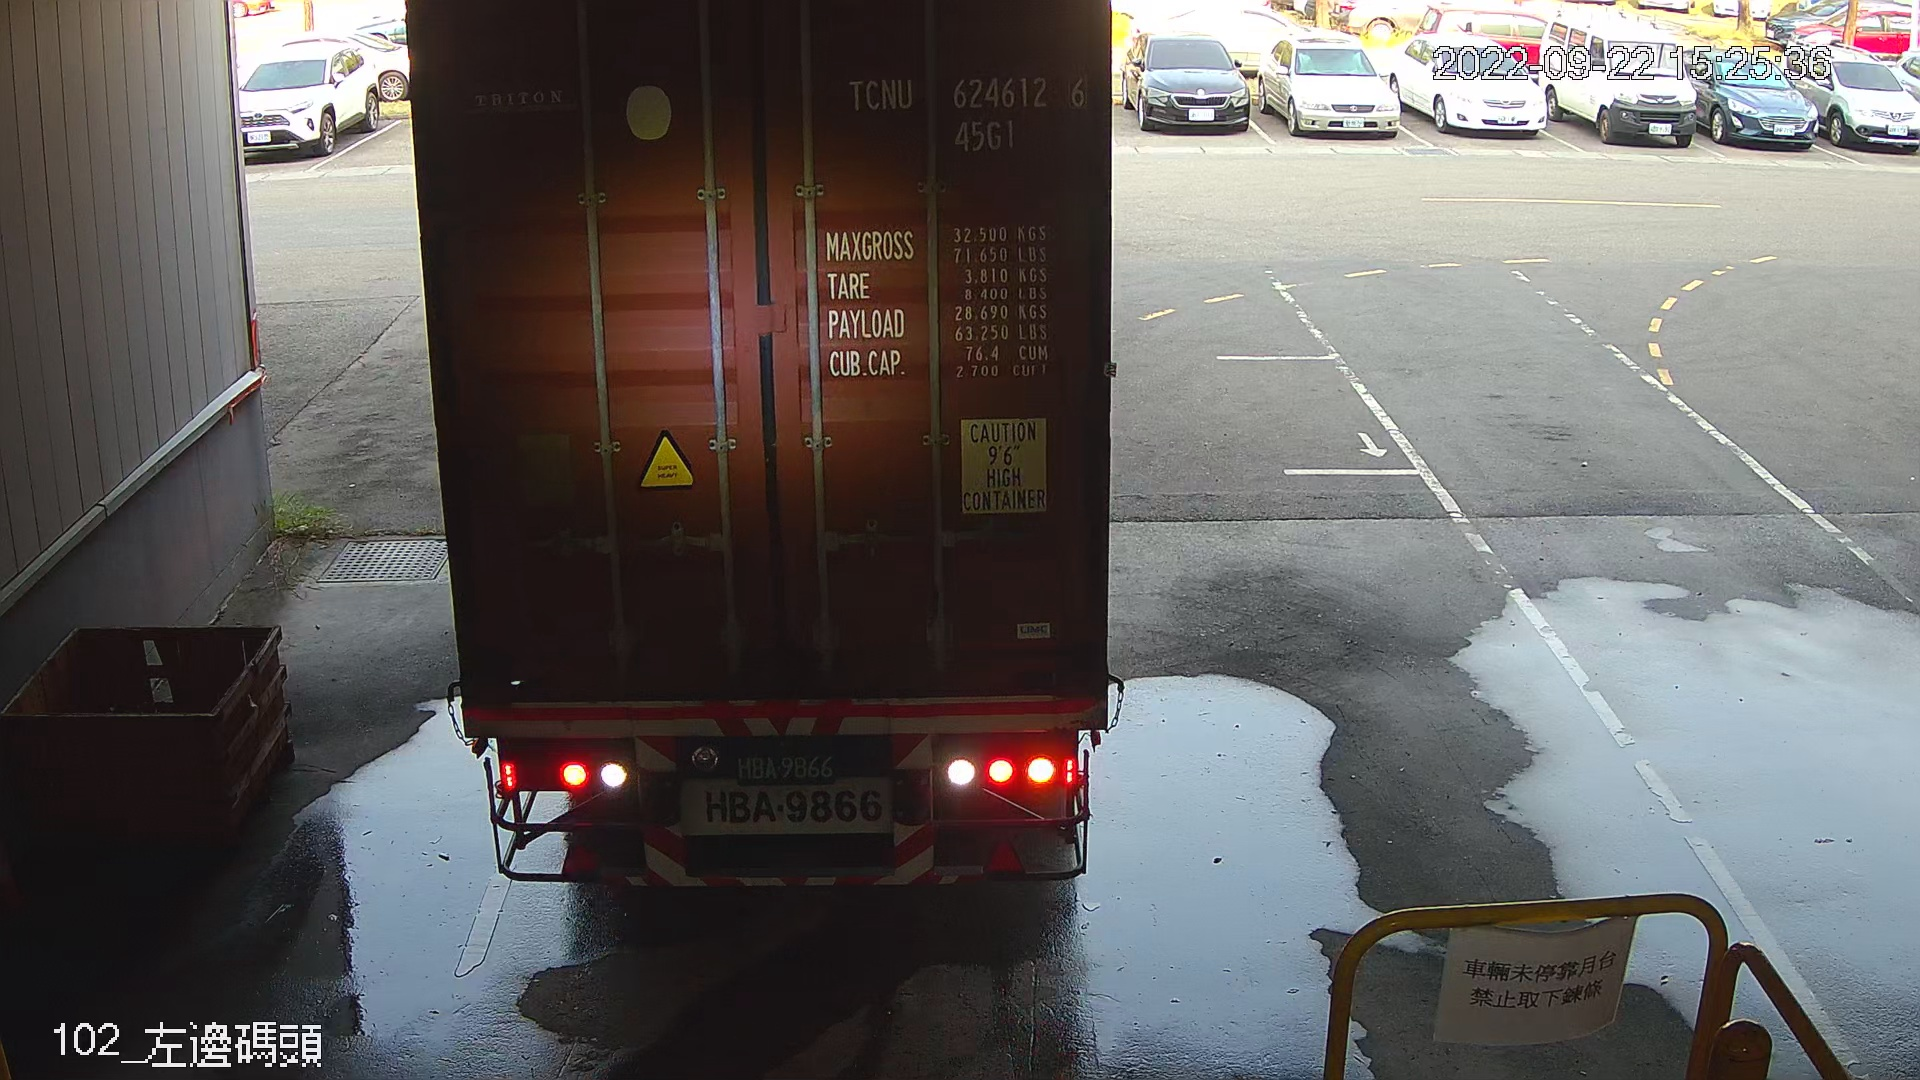container: (839, 61, 1098, 164)
